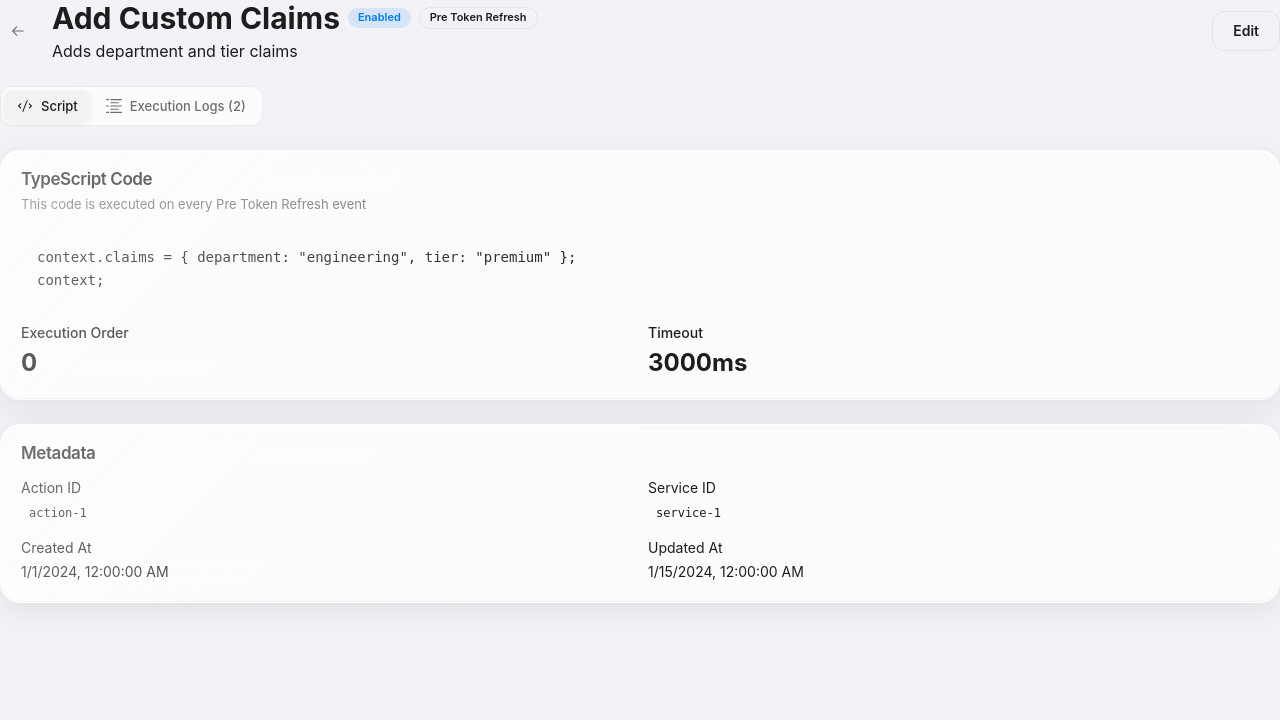
it: Action Detail Page › expands log entry on click to show details
Expected: the heading "Add Custom Claims" is shown, [52,0,340,36]
Click the tab "Execution Logs (2)": point(176, 106) [94,91,258,122]
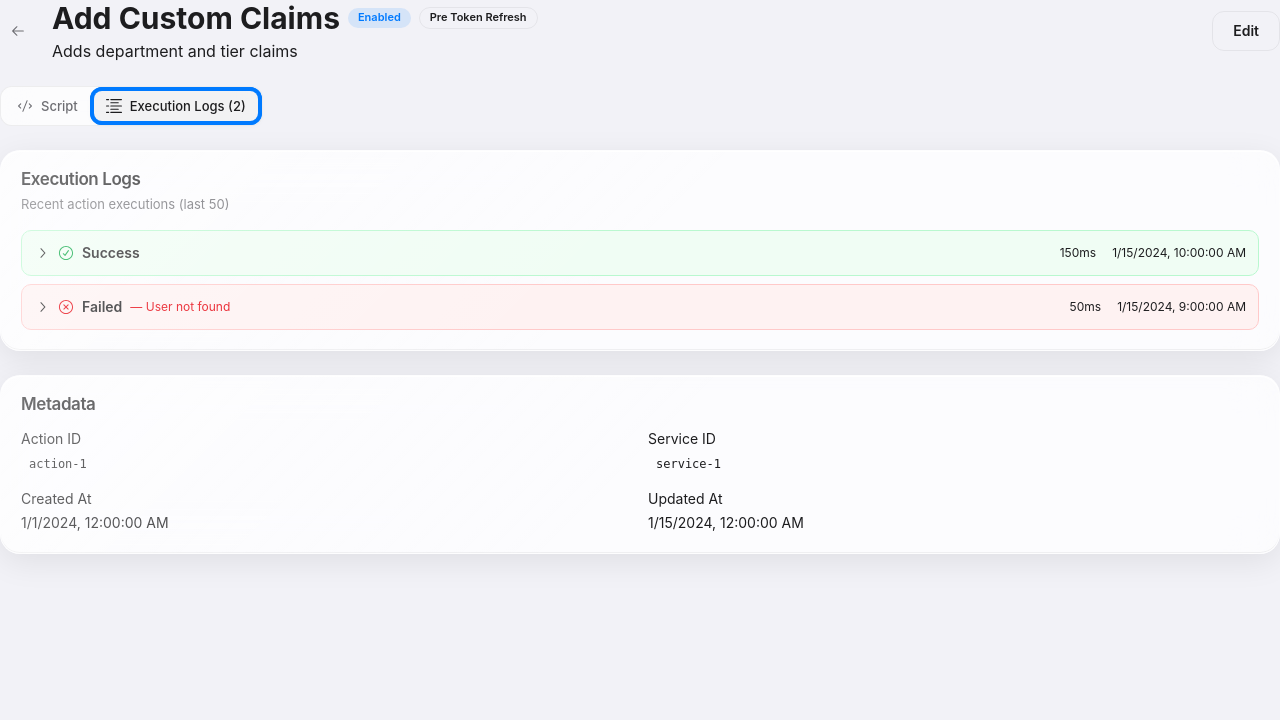
Expected: the text "Execution ID:" is not shown
Expected: the text "Failed" is shown, [82,297,122,317]
Expected: the button "Failed" is shown
Click the button "Failed": point(102, 307) [22,285,1258,329]
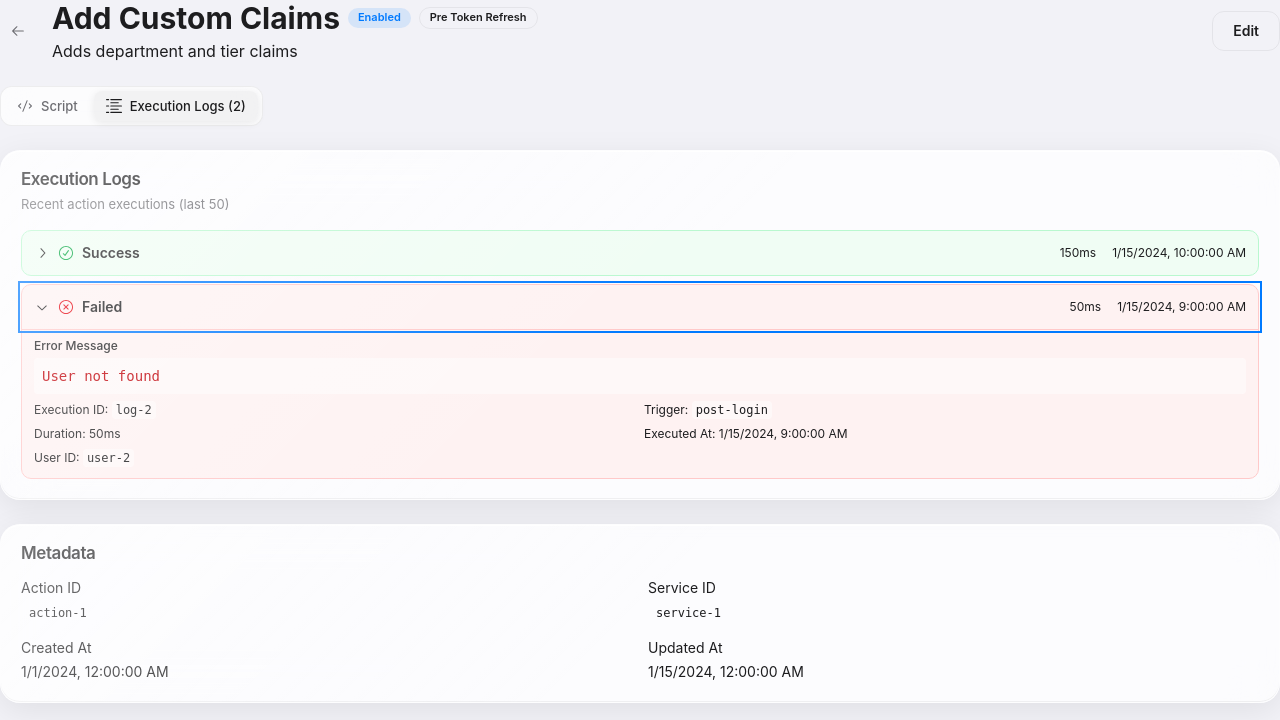
Expected: the text "Execution ID:" is shown, [34,402,108,417]
Expected: the text "log-2" is shown, [112,401,156,419]
Expected: the text "Trigger:" is shown, [644,402,688,417]
